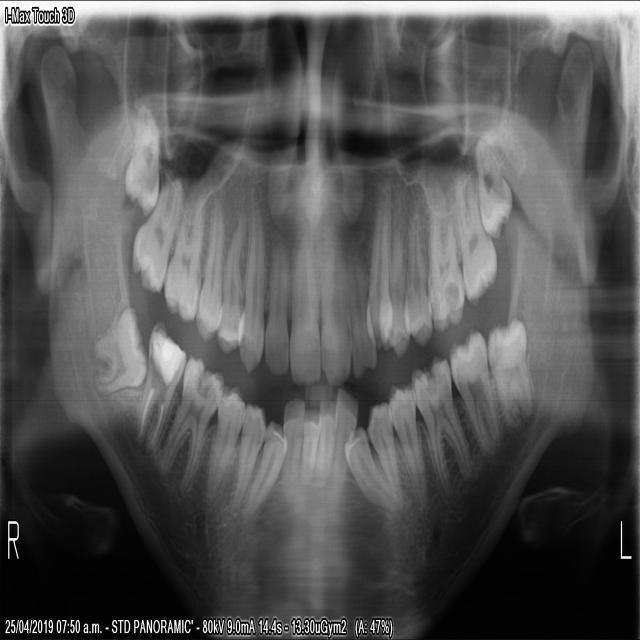LCD: (339, 426, 399, 512)
LCU: (363, 182, 393, 353)
LID: (322, 383, 360, 497), (312, 395, 335, 488)
LIU: (319, 228, 351, 389), (347, 228, 377, 382)
LMD: (409, 350, 472, 497), (444, 320, 501, 460), (484, 324, 538, 434)
LMU: (452, 165, 498, 310), (426, 206, 466, 338), (472, 120, 514, 243), (402, 199, 432, 353)
LPMD: (384, 371, 428, 507), (365, 391, 403, 502)
RCD: (242, 415, 287, 513)
RCU: (236, 209, 264, 375)
RID: (299, 392, 321, 485), (281, 393, 303, 479)
RIU: (287, 232, 320, 390), (261, 234, 288, 381)
RMD: (159, 344, 229, 492), (136, 311, 188, 451), (89, 296, 147, 395)
RMU: (132, 170, 186, 298), (160, 193, 208, 327), (120, 102, 159, 211)
RPMD: (200, 384, 246, 507), (225, 397, 268, 519)
RPMU: (192, 207, 225, 340), (213, 224, 245, 356)
